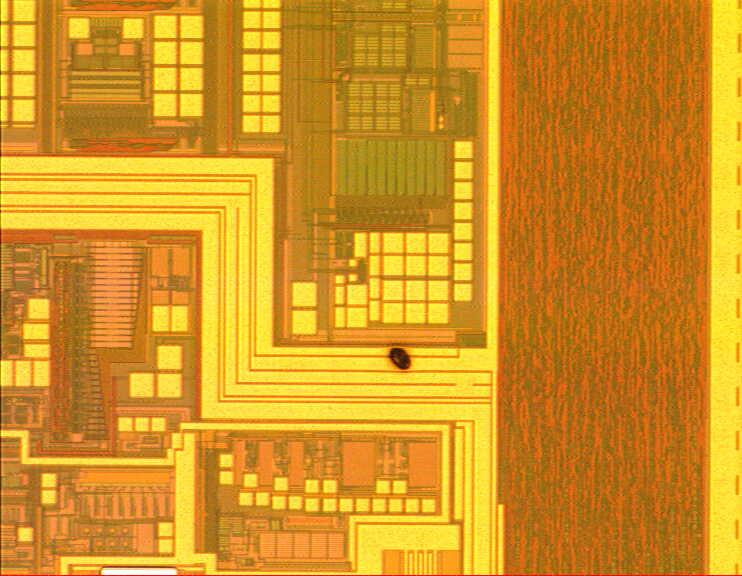PIQ PARTICLE: (381, 339, 421, 379)
